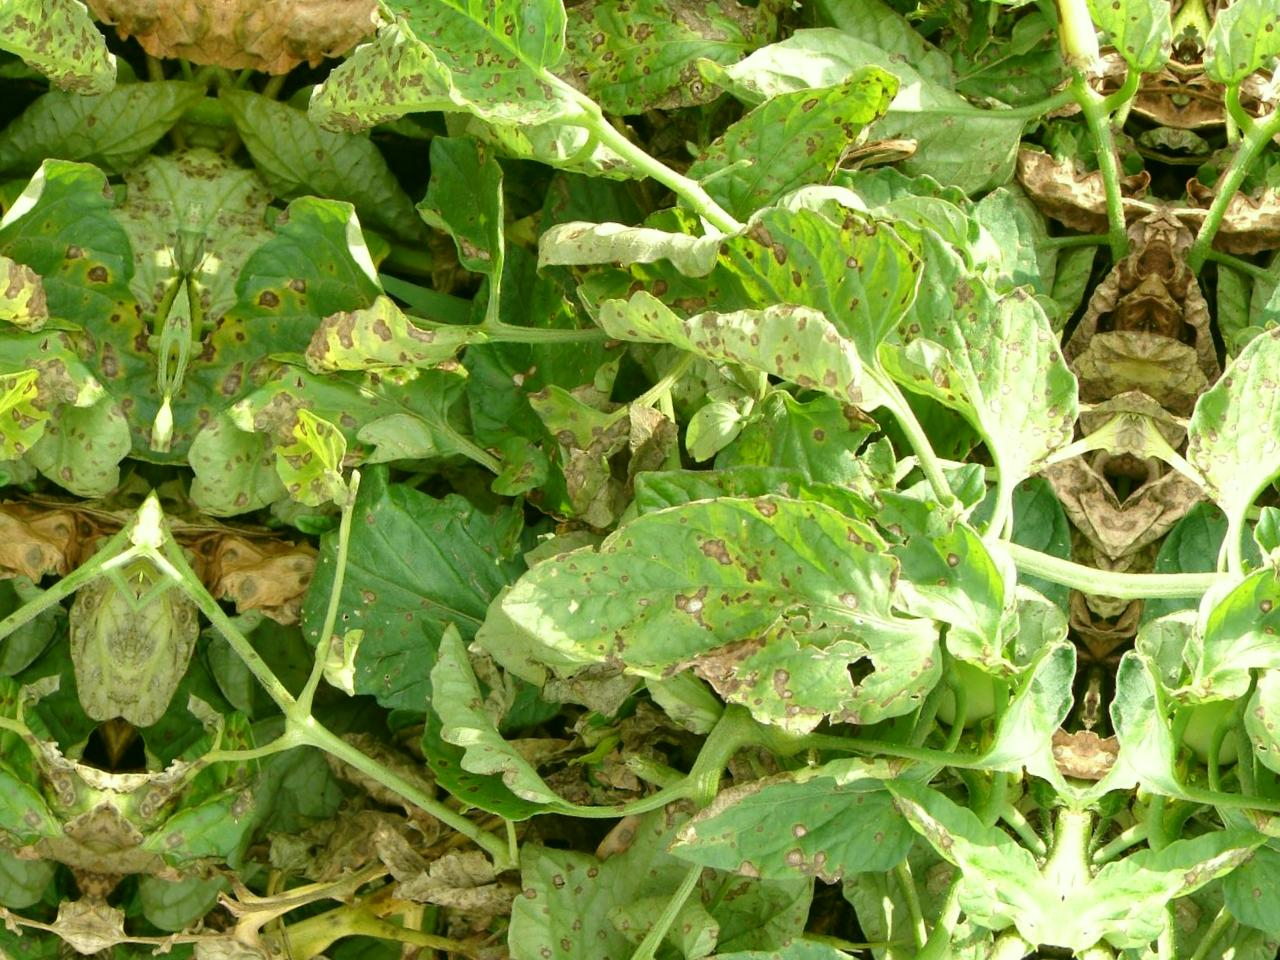Tomato Septoria leaf spot: (472, 456, 972, 766), (797, 162, 1129, 498), (578, 180, 936, 423), (646, 716, 948, 931), (643, 36, 905, 262), (211, 179, 476, 387), (302, 0, 603, 141)
